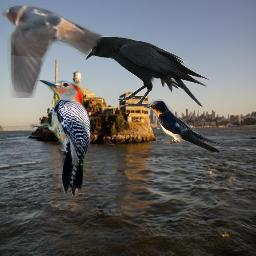Crow: (81, 36, 210, 108)
Swallow: (2, 1, 104, 98), (144, 98, 232, 154)
Woodpecker: (30, 80, 90, 196)
